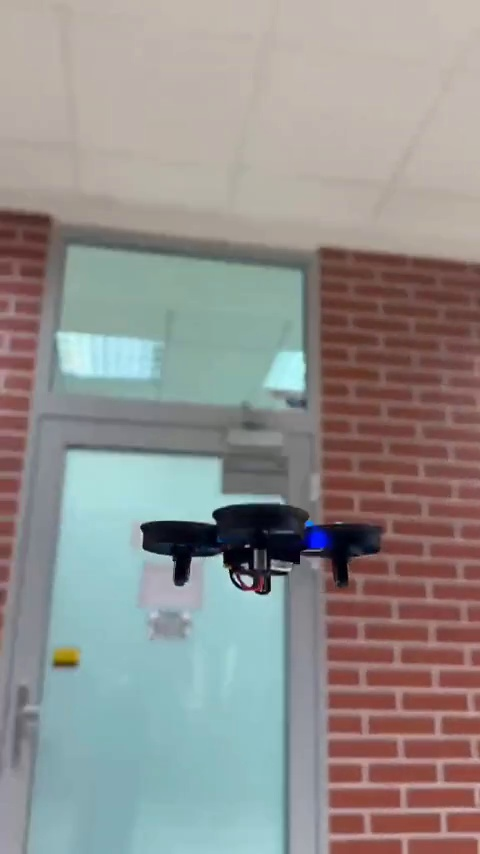drone: (140, 503, 384, 596)
